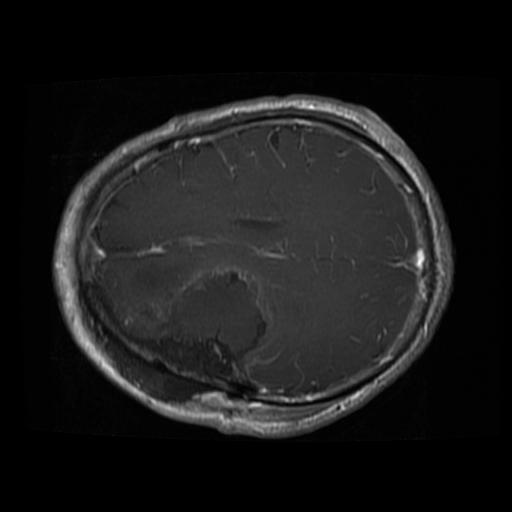glioma: (155, 266, 267, 381)
